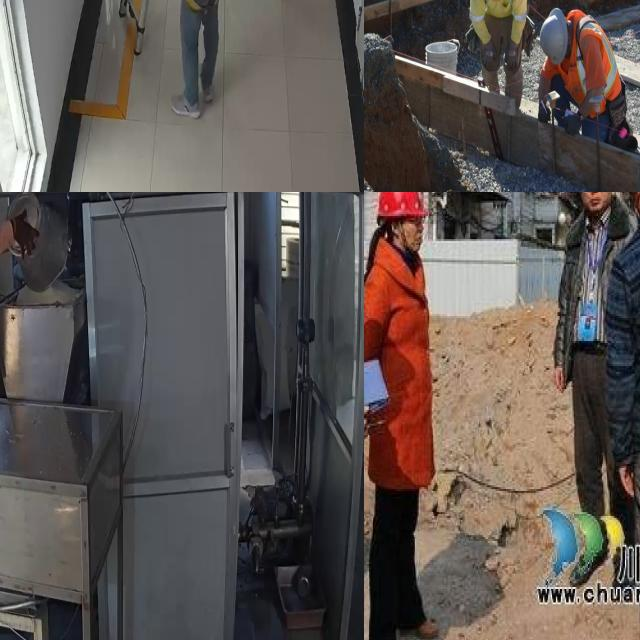No_Ear-Protection: (386, 212, 404, 244)
hand_glove: (481, 38, 499, 74), (504, 41, 522, 70)
hand_noglove: (10, 209, 39, 257)
head_helmet: (544, 15, 566, 68)
person: (539, 10, 634, 134), (469, 0, 528, 96)
vest: (567, 13, 621, 109), (470, 0, 524, 37)
